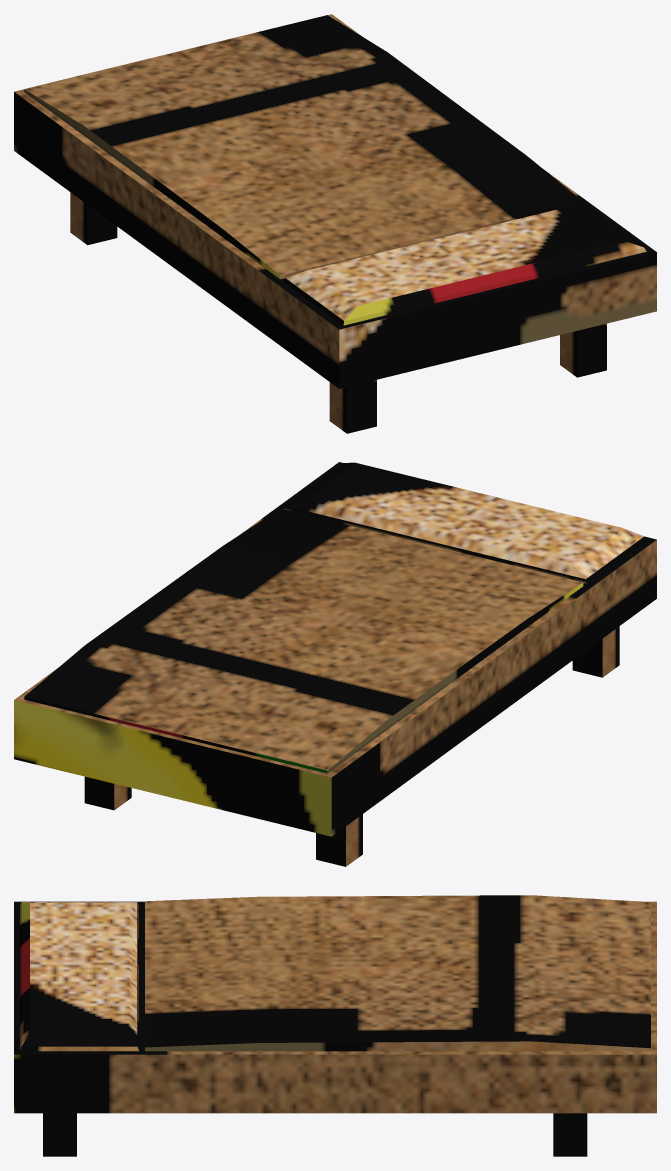
Rendered from BED.fbx.
The picture shows the model from 3 angles, top to bottom: view 1: azimuth 30°, elevation 25°; view 2: azimuth 150°, elevation 25°; view 3: azimuth 270°, elevation 25°; orthographic projection.
Parts seen in each view (by area): view 1: BED; view 2: BED; view 3: BED.
Boxes of the visible parts, x1,y1,x2,y2 form: BED: (14, 14, 656, 433); BED: (14, 462, 656, 866); BED: (14, 895, 656, 1156).
Size of the model in its own units: 98.82 by 39.09 by 175.
